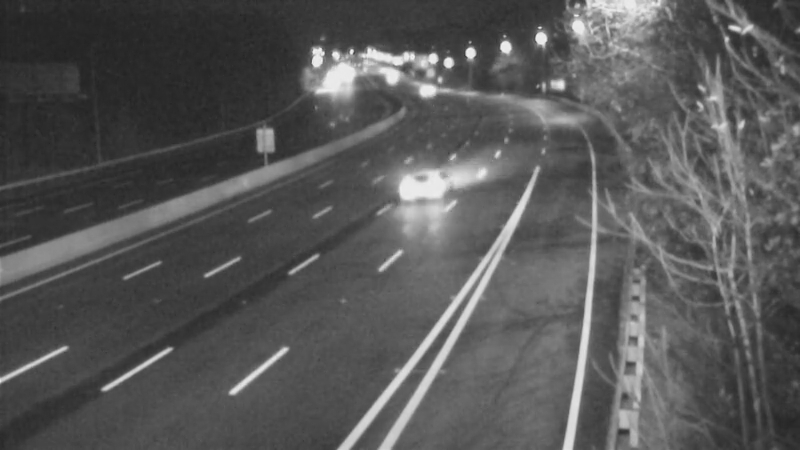vehicle: (386, 152, 466, 232), (398, 65, 448, 115)
